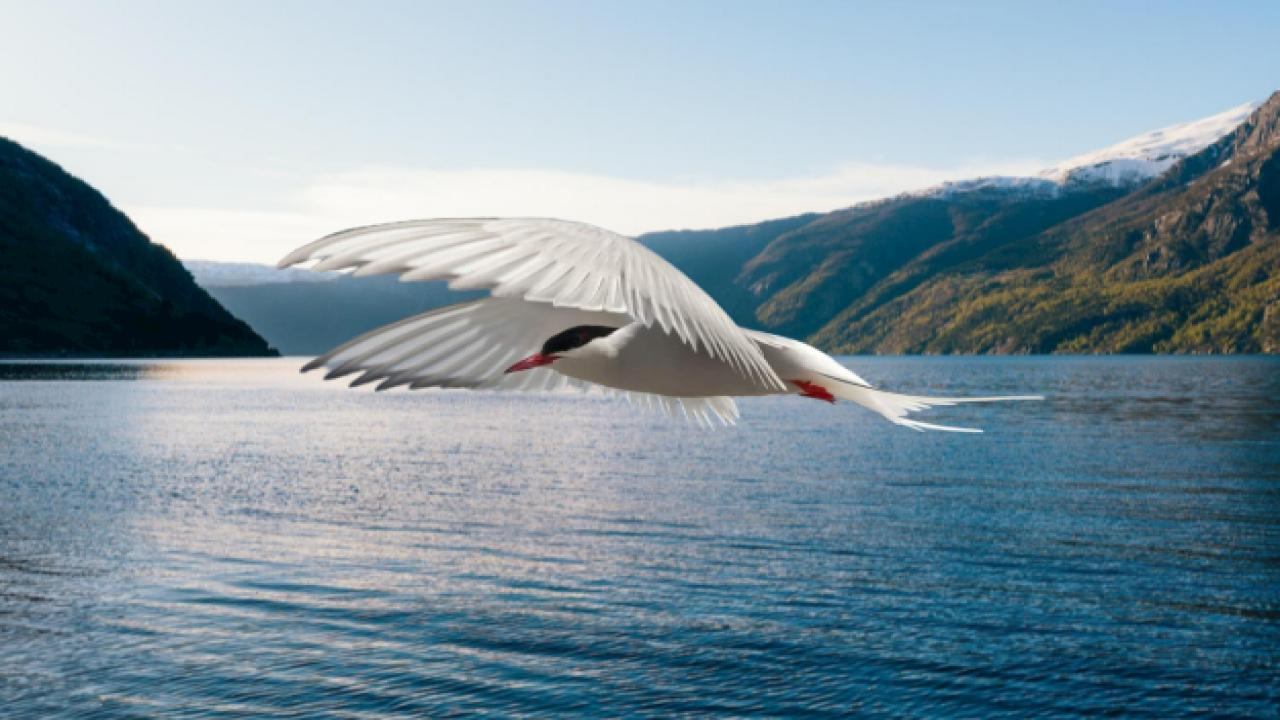Bird: (249, 197, 1070, 455)
